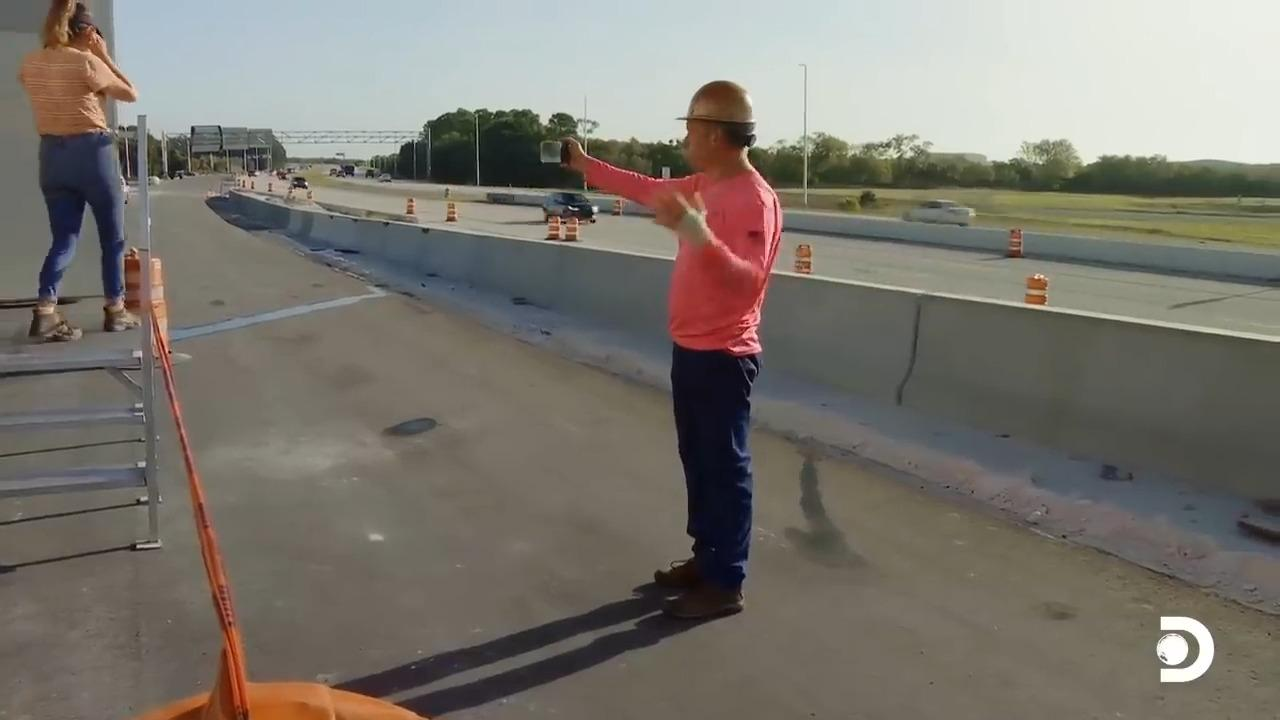Helmet: (675, 79, 756, 135)
Person: (558, 79, 783, 619), (17, 0, 141, 341)
Safety Boot: (661, 584, 750, 619), (101, 297, 139, 331), (658, 557, 705, 584), (31, 319, 80, 339)
bare-arms: (653, 186, 712, 243), (547, 135, 582, 174), (88, 32, 112, 59)
no-helmet: (55, 0, 99, 23)
no-vest: (682, 185, 765, 347), (28, 57, 101, 128)
